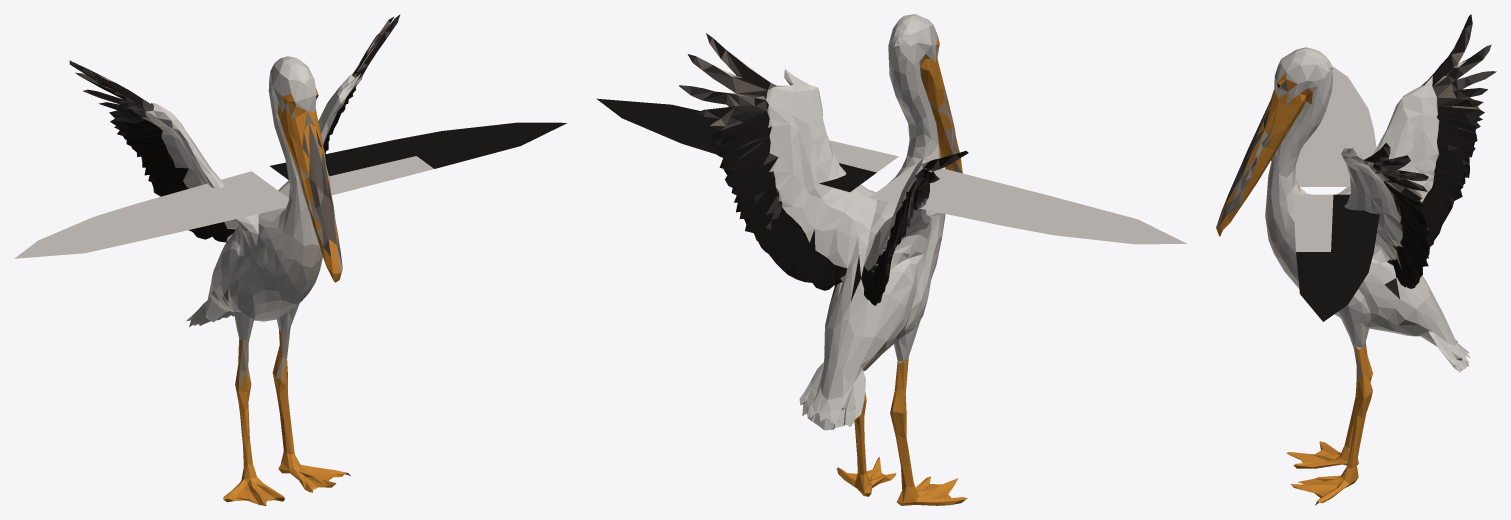
Rendered from pelecanus_erythrorhynchos.glb.
3 views of the same model, side by side, from view 1: azimuth 30°, elevation 25°; view 2: azimuth 150°, elevation 25°; view 3: azimuth 270°, elevation 25° (orthographic). The views are drawn at different scales.
Parts seen in each view (by area): view 1: lod0; view 2: lod0; view 3: lod0.
Boxes of the visible parts, box(x1,y1,x2,y2) form: lod0: box(14, 14, 566, 505); lod0: box(596, 14, 1187, 505); lod0: box(1216, 14, 1496, 505).
Size of what is drawn, in the model's own units: 1.86 by 1.4 by 0.8386.
